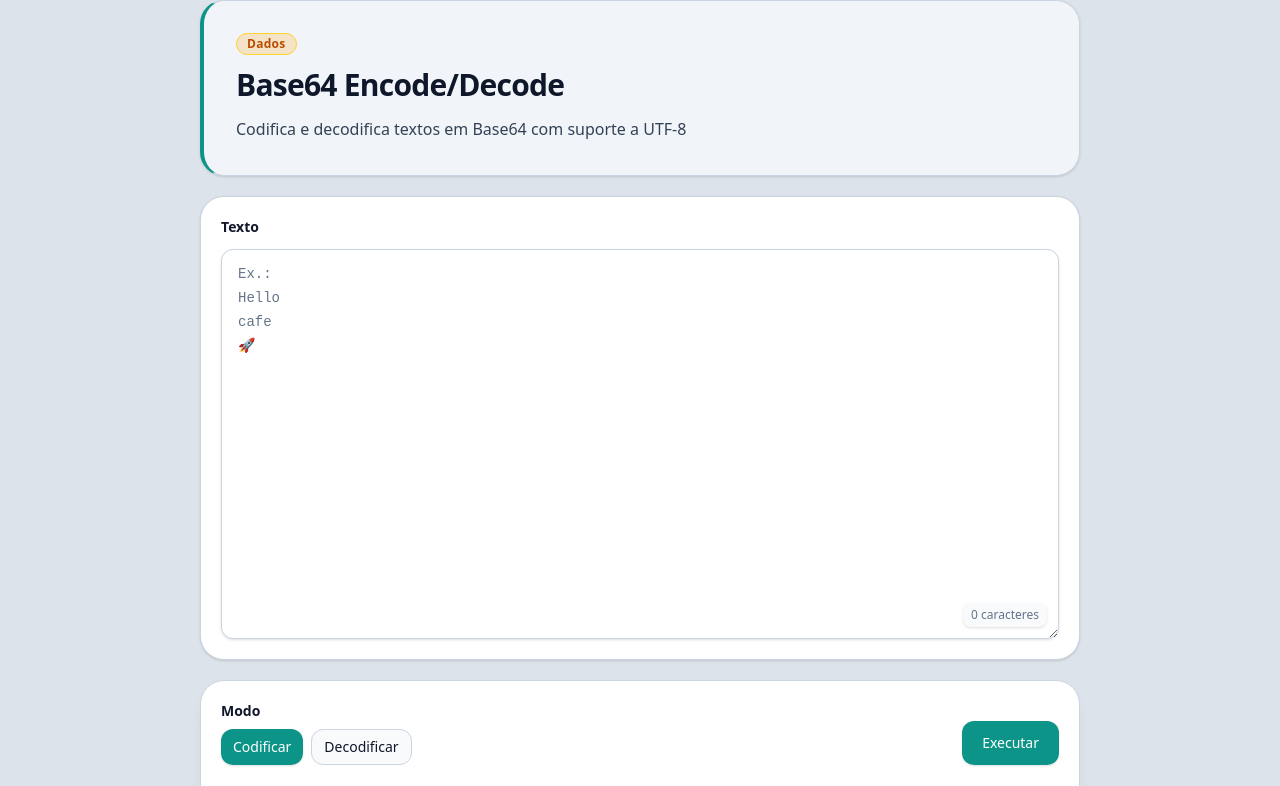
Base64CodecPage › mostra erro quando o Base64 informado e invalido
Click the button "Decodificar" at (361, 747), box [311,729,412,765]
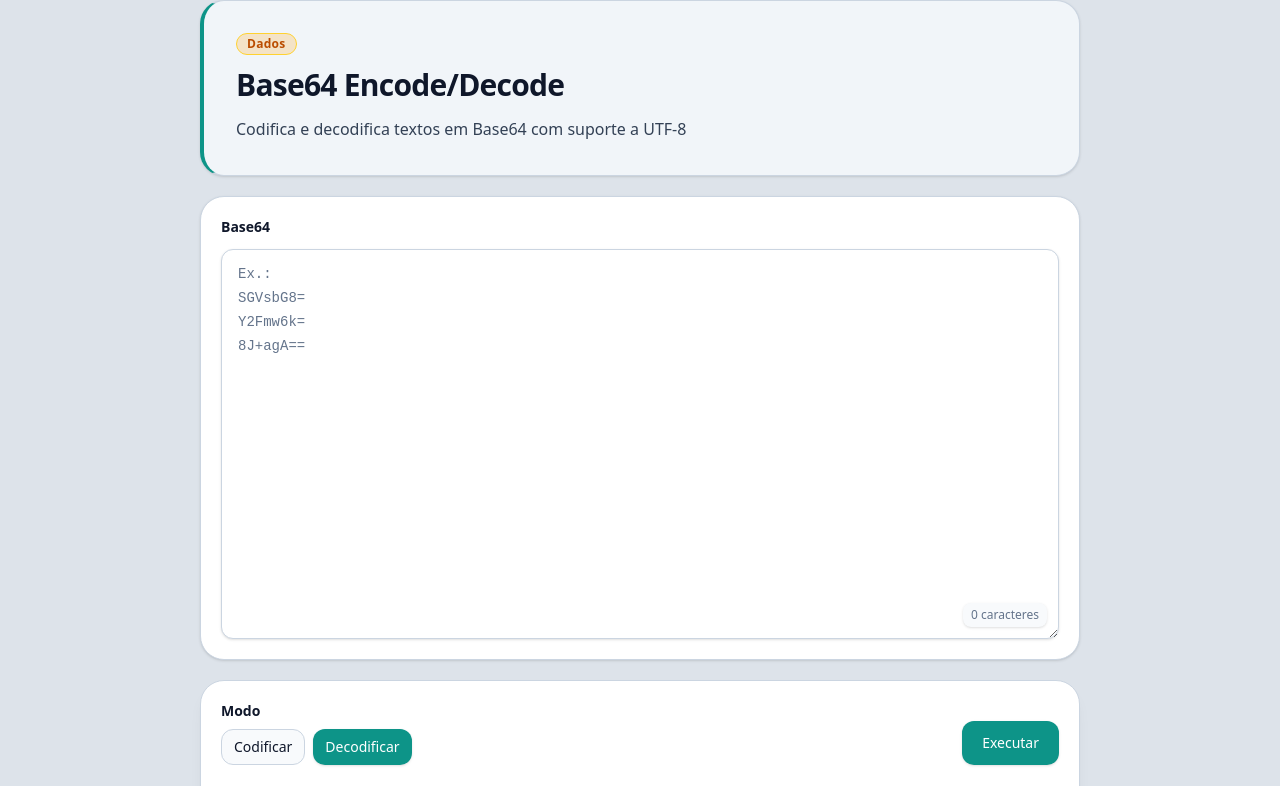
Type "!!!" into the text box labelled "Base64" at (640, 444), box [221,249,1059,639]
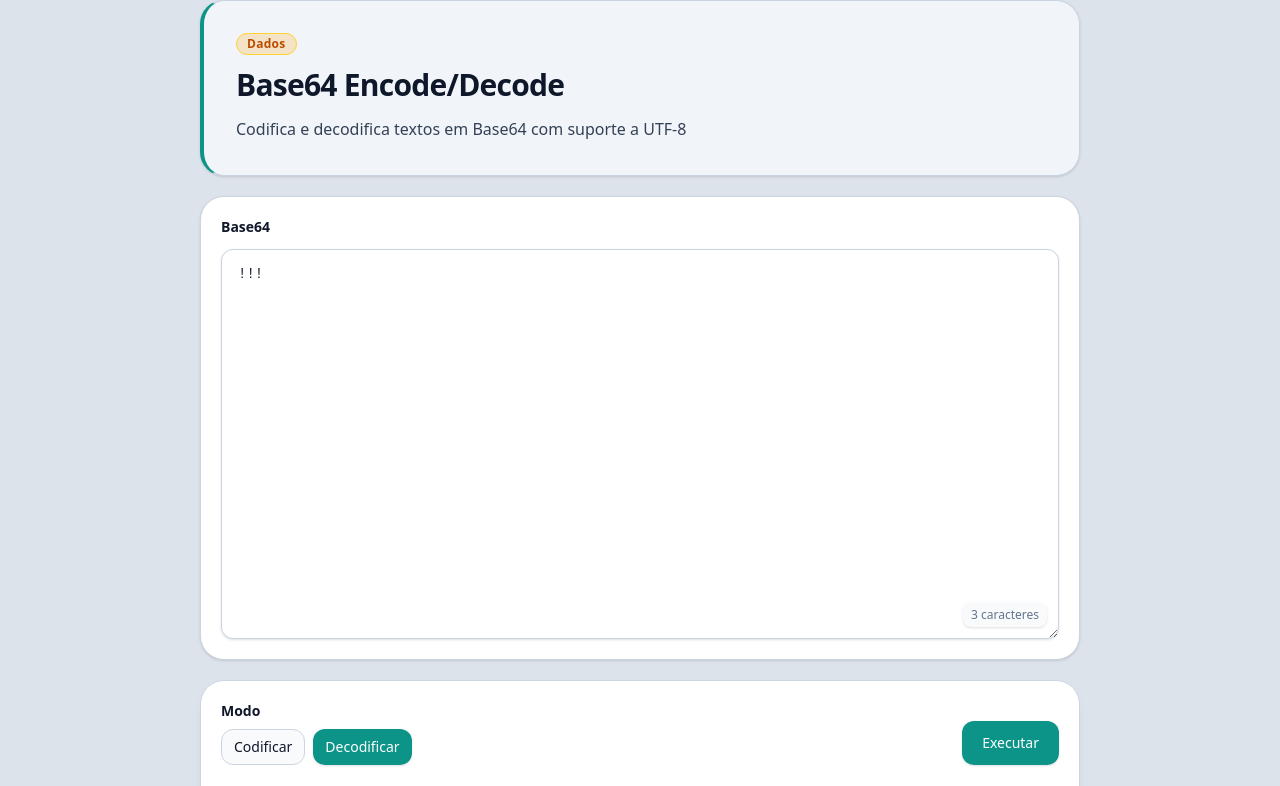
Click the button "Executar" at (1011, 743), box [962,721,1059,765]
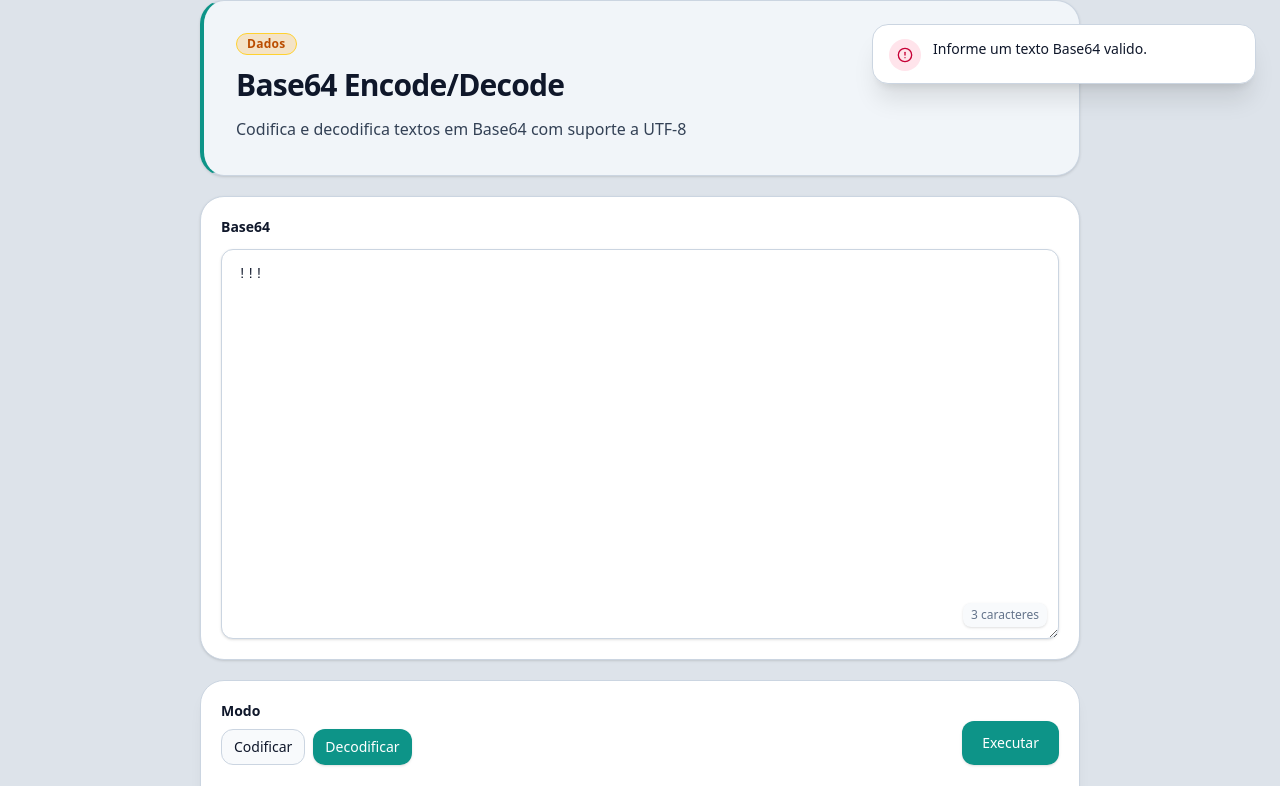
Now the text "Informe um texto Base64 valido." is shown, box [933,37,1147,61]
